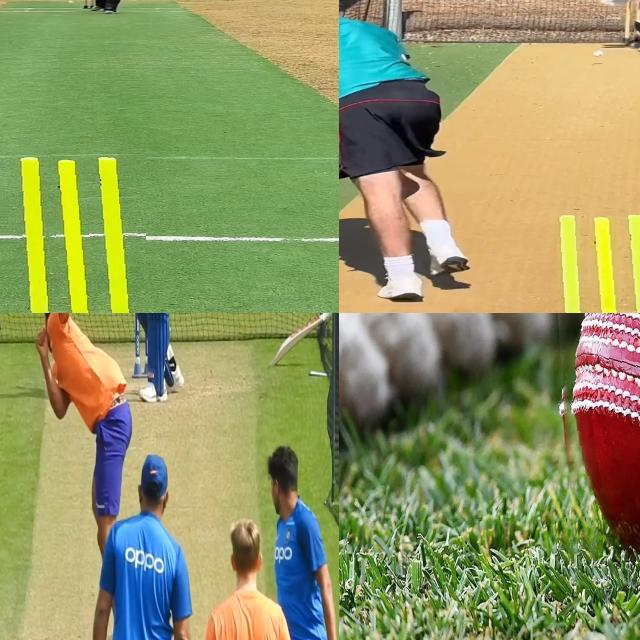Cricket ball: (552, 313, 640, 589), (591, 50, 605, 59), (67, 0, 77, 5)
Stumps: (0, 153, 146, 313), (543, 214, 640, 313)
